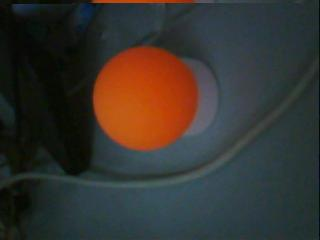oball: (92, 46, 197, 152)
